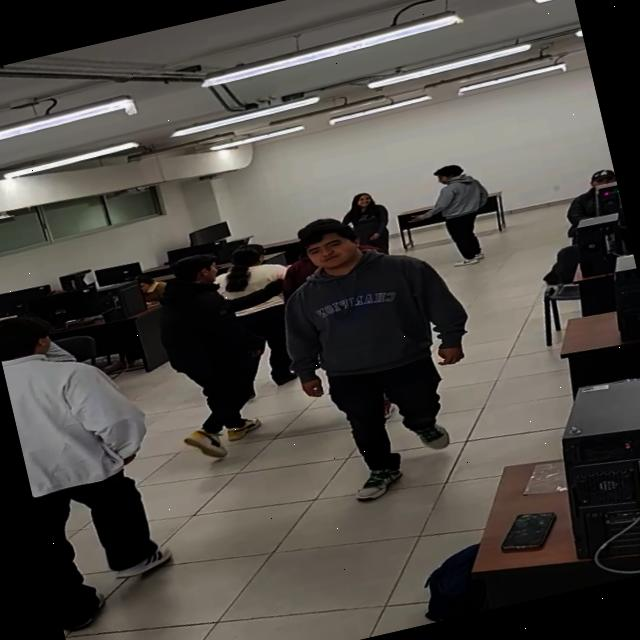Persona: (0, 295, 176, 634), (282, 210, 482, 507), (129, 245, 278, 469), (418, 158, 503, 275), (212, 232, 282, 329), (342, 187, 388, 248)
